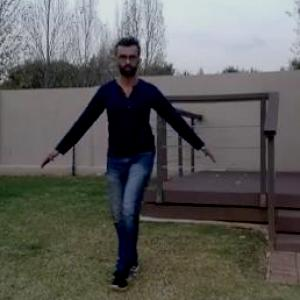land: (59, 36, 201, 280)
